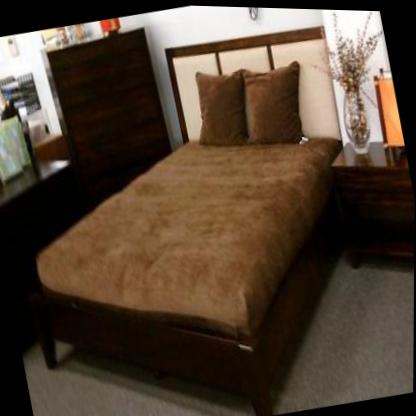Bed: (0, 12, 395, 416)
